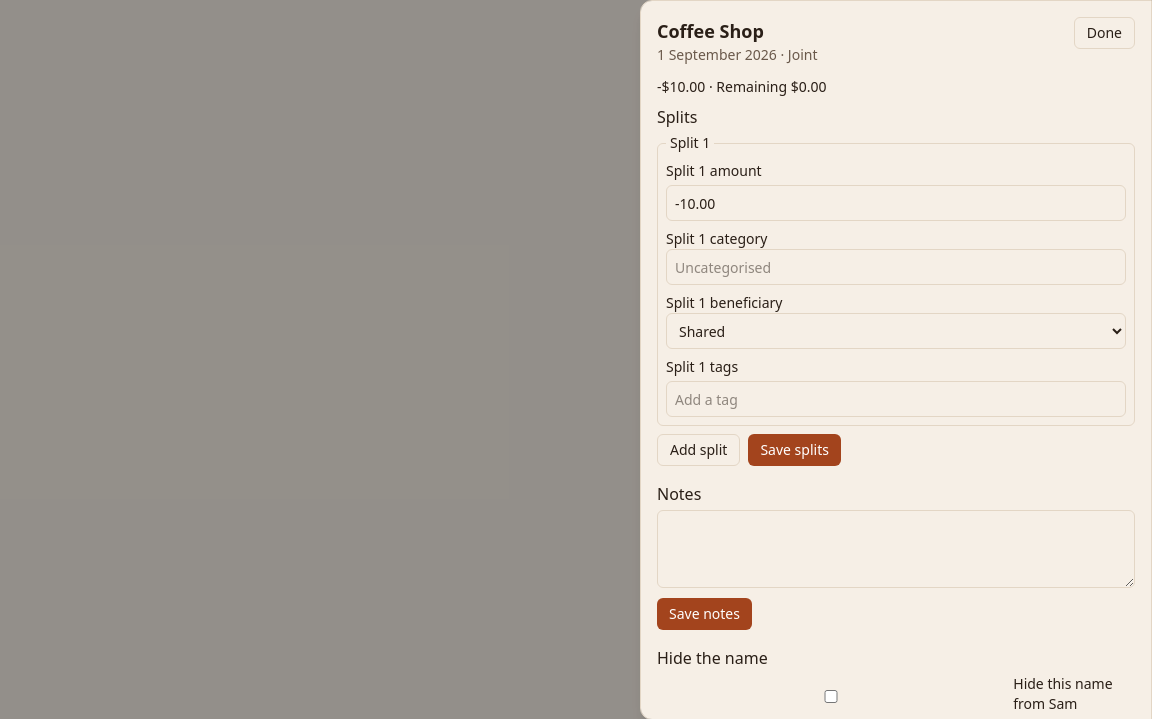
it: TransactionSheet › sets a category through setSplitField and shows the returned transaction
The width and height of the screenshot is (1152, 719).
Click the dropdown named "Split 1 category". click: (896, 267)
box: [666, 249, 1126, 285]
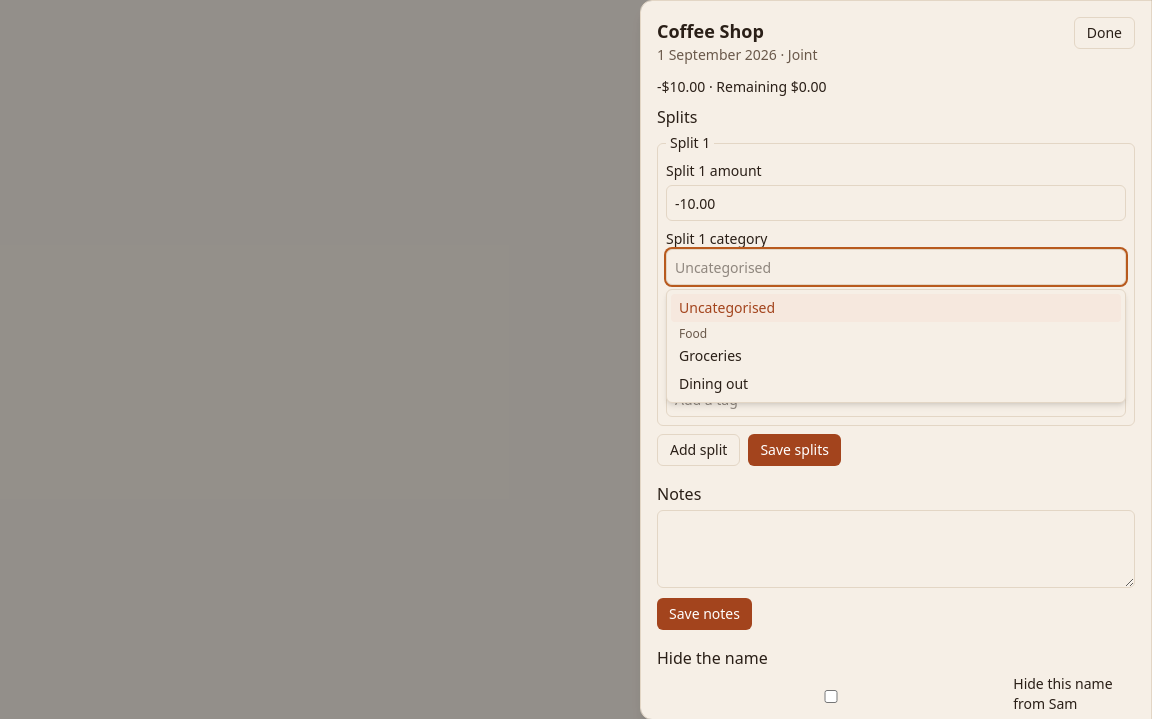
Click the option "Groceries". click: (710, 356)
box: [679, 346, 742, 365]
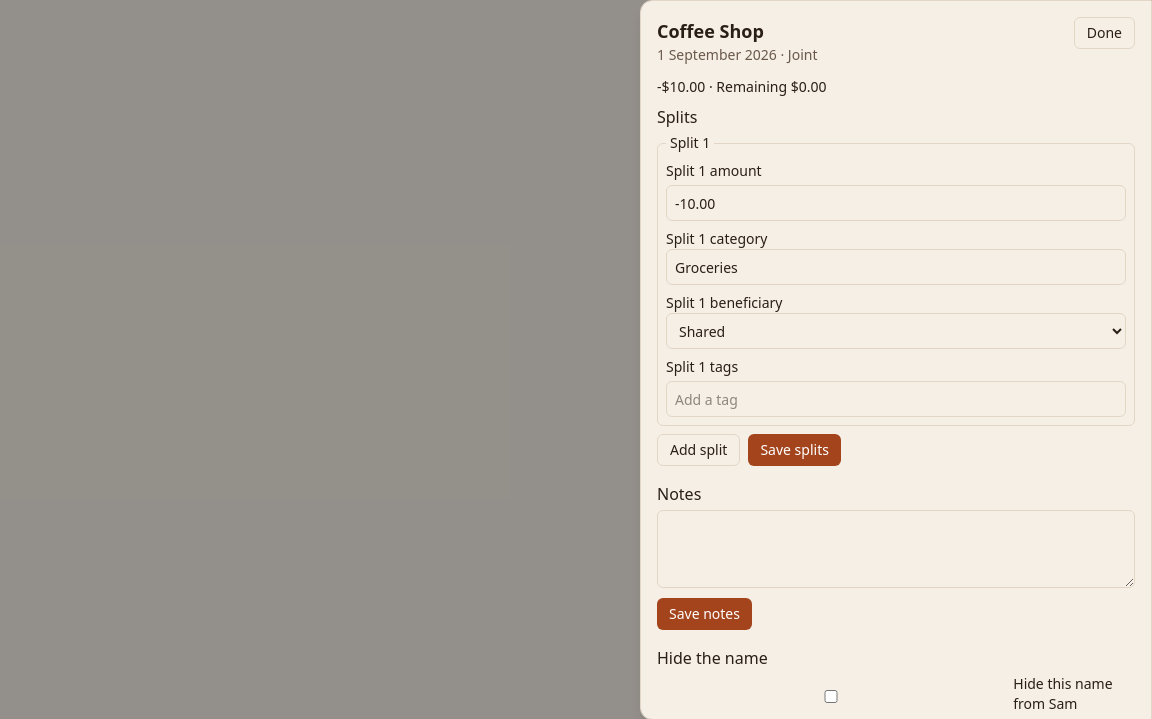
Result: the dropdown named "Split 1 category" holds "Groceries" at [666, 249, 1126, 285]
